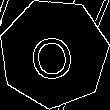O_N: (29, 25, 79, 82)
